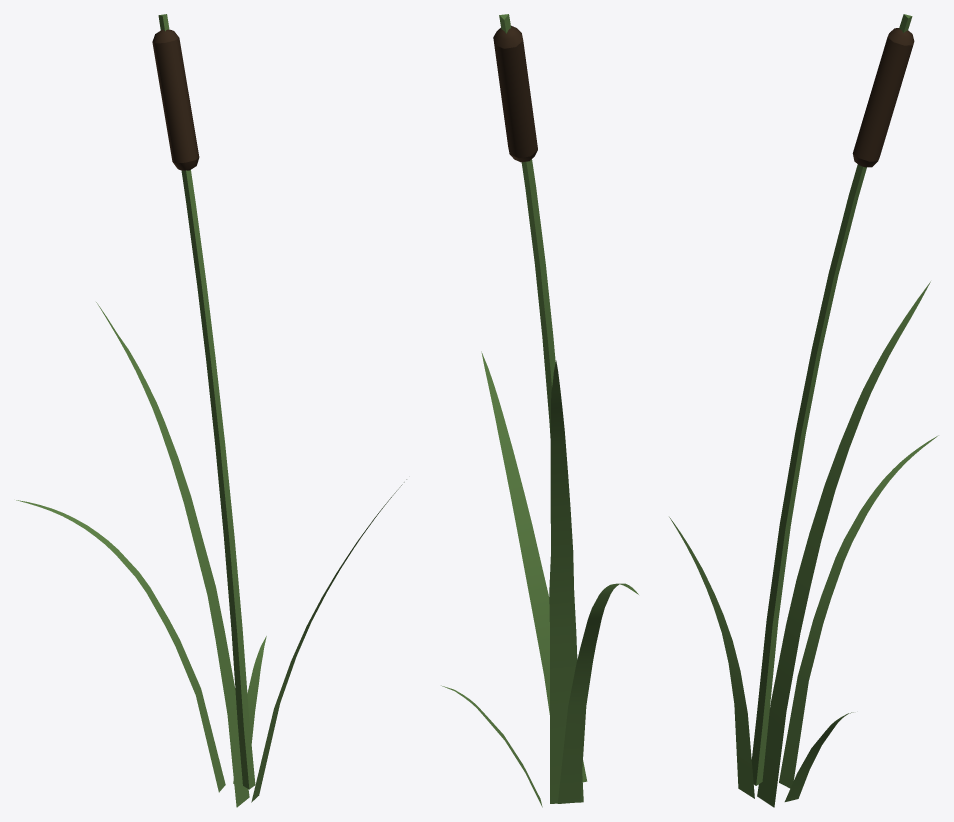
File: plant_cattail_A.fbx
3 views of the same model, side by side, from view 1: azimuth 30°, elevation 25°; view 2: azimuth 150°, elevation 25°; view 3: azimuth 270°, elevation 25° (orthographic). The views are drawn at different scales.
Parts seen in each view (by area): view 1: plant_cattail_A_twig_A, plant_cattail_A_leaf_A, plant_cattail_A_flower_A, plant_cattail_A_leaf_B, plant_cattail_A_leaf_D, plant_cattail_A_leaf_C; view 2: plant_cattail_A_leaf_A, plant_cattail_A_leaf_D, plant_cattail_A_leaf_B, plant_cattail_A_flower_A, plant_cattail_A_twig_A, plant_cattail_A_leaf_C; view 3: plant_cattail_A_twig_A, plant_cattail_A_leaf_A, plant_cattail_A_leaf_B, plant_cattail_A_flower_A, plant_cattail_A_leaf_D, plant_cattail_A_leaf_C.
Boxes of the visible parts, x1=… form: plant_cattail_A_twig_A: x1=158, y1=14, x2=255, y2=789; plant_cattail_A_leaf_A: x1=96, y1=302, x2=249, y2=807; plant_cattail_A_flower_A: x1=152, y1=29, x2=199, y2=170; plant_cattail_A_leaf_B: x1=16, y1=500, x2=225, y2=792; plant_cattail_A_leaf_D: x1=251, y1=479, x2=406, y2=802; plant_cattail_A_leaf_C: x1=233, y1=636, x2=266, y2=783; plant_cattail_A_leaf_A: x1=549, y1=360, x2=583, y2=803; plant_cattail_A_leaf_D: x1=481, y1=351, x2=587, y2=782; plant_cattail_A_leaf_B: x1=558, y1=583, x2=638, y2=803; plant_cattail_A_flower_A: x1=493, y1=25, x2=537, y2=162; plant_cattail_A_twig_A: x1=499, y1=14, x2=555, y2=437; plant_cattail_A_leaf_C: x1=441, y1=685, x2=542, y2=807; plant_cattail_A_twig_A: x1=751, y1=14, x2=912, y2=785; plant_cattail_A_leaf_A: x1=757, y1=281, x2=930, y2=807; plant_cattail_A_leaf_B: x1=779, y1=435, x2=938, y2=788; plant_cattail_A_flower_A: x1=852, y1=28, x2=914, y2=167; plant_cattail_A_leaf_D: x1=669, y1=517, x2=754, y2=798; plant_cattail_A_leaf_C: x1=784, y1=712, x2=853, y2=801.
Size of the model in its own units: 60.9 by 161 by 50.93.
